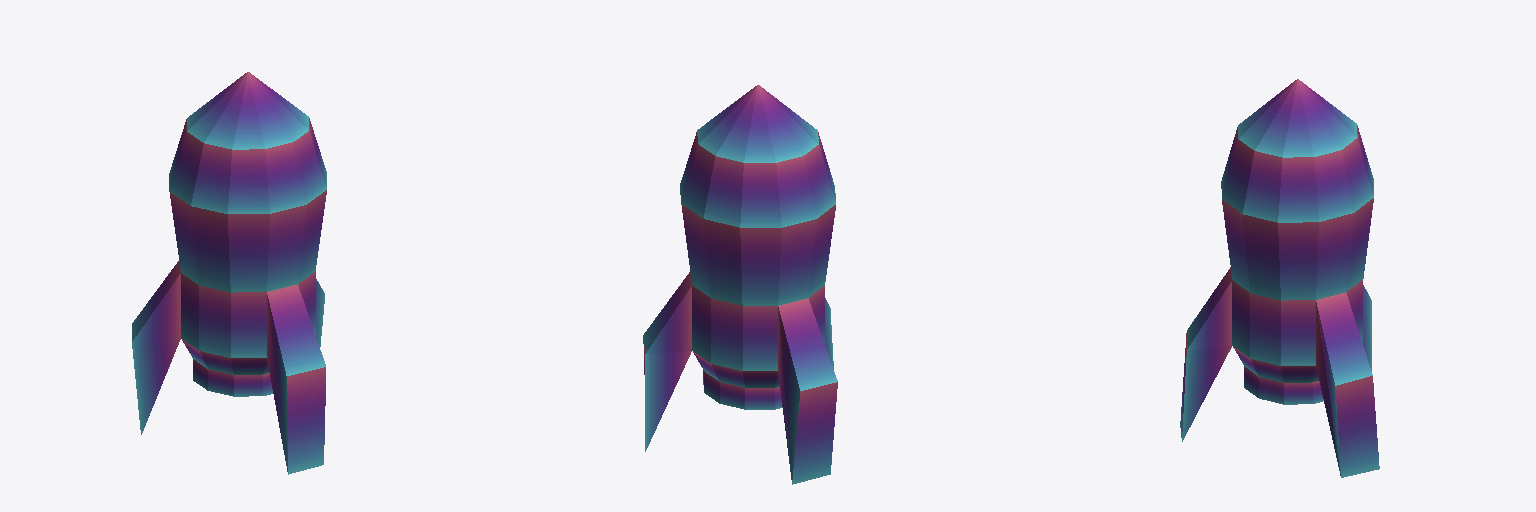
3 views of the same model, side by side, from view 1: azimuth 30°, elevation 25°; view 2: azimuth 150°, elevation 25°; view 3: azimuth 270°, elevation 25° (orthographic).
Visible parts, largest first — view 1: 000_Buffer_Layer; view 2: 000_Buffer_Layer; view 3: 000_Buffer_Layer.
Boxes of the visible parts, x1,y1,x2,y2 form: 000_Buffer_Layer: [132, 72, 326, 474]; 000_Buffer_Layer: [643, 85, 837, 484]; 000_Buffer_Layer: [1180, 79, 1379, 477].
Size of the model in its own units: 93.04 by 163 by 82.78.
Materials: 1 (1 with a texture image).